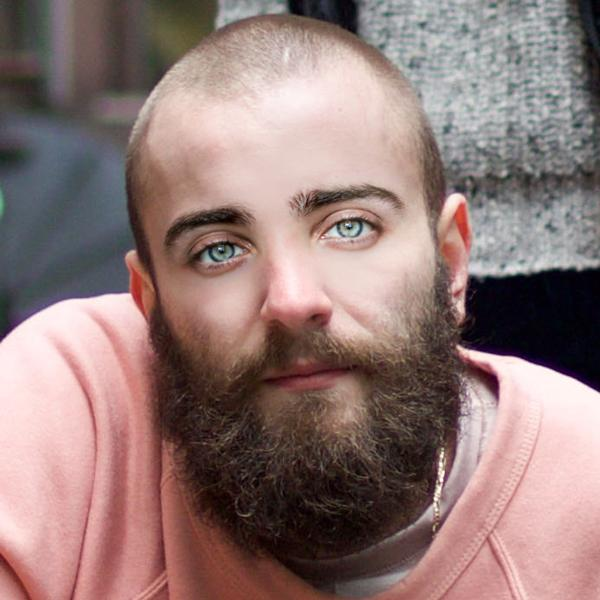Eyes: (305, 199, 388, 256), (175, 228, 259, 282)
